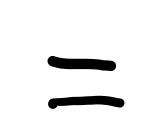eqv: (47, 54, 125, 109)
